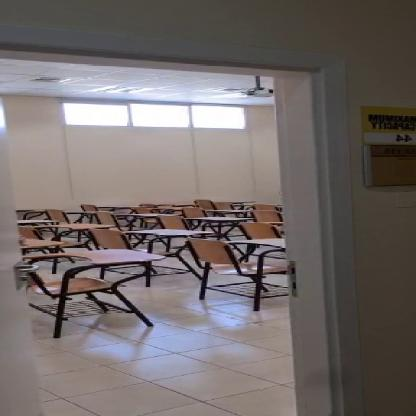open: (24, 35, 374, 408)
